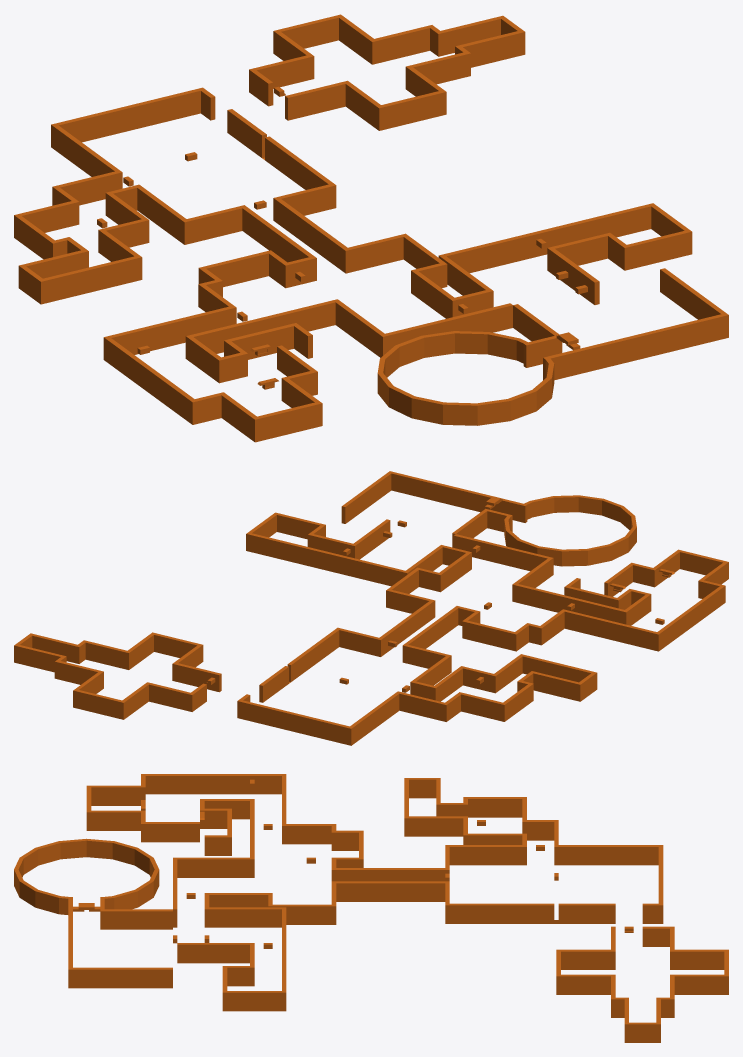
Rendered from DecoracionParedes.obj.
The picture shows the model from 3 angles, top to bottom: view 1: azimuth 30°, elevation 25°; view 2: azimuth 150°, elevation 25°; view 3: azimuth 270°, elevation 25°; orthographic projection. The views are drawn at different scales.
Parts seen in each view (by area): view 1: Circle.001_Circle.002; view 2: Circle.001_Circle.002; view 3: Circle.001_Circle.002.
Boxes of the visible parts, x1,y1,x2,y2 form: Circle.001_Circle.002: [14, 14, 728, 442]; Circle.001_Circle.002: [14, 471, 728, 745]; Circle.001_Circle.002: [14, 774, 728, 1042].
Size of the model in its own units: 522 by 22.93 by 630.
